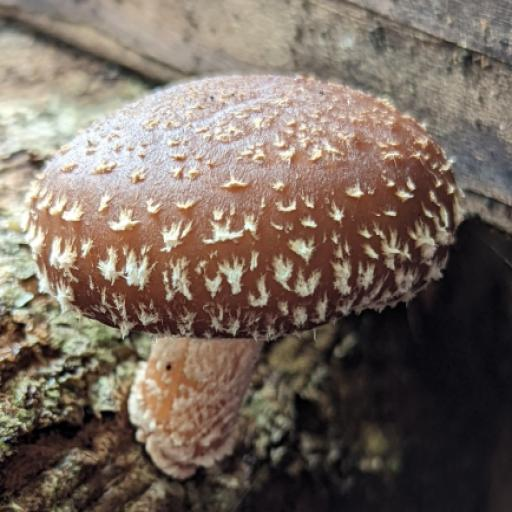Shiitake Mushroom: (0, 0, 500, 491)
